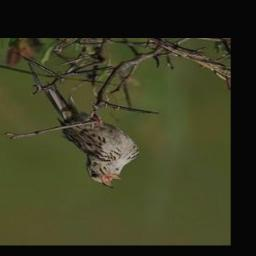Sparrow: (40, 79, 143, 190)
